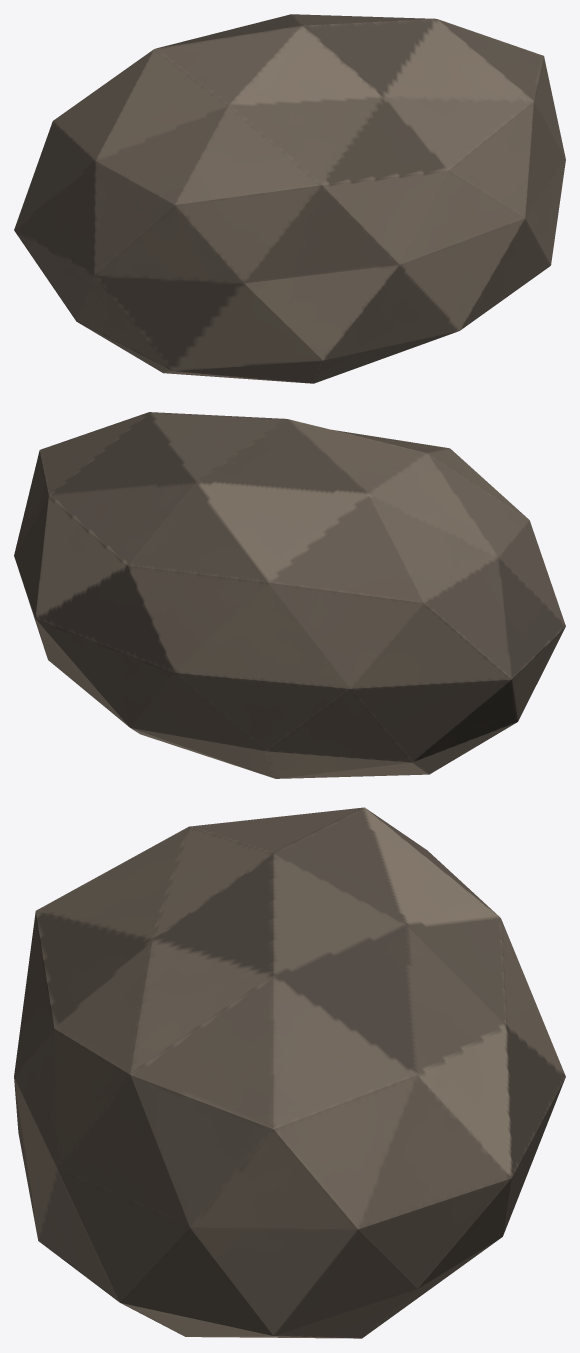
The model's file is kite.glb.
3 renders of one model, top to bottom at view 1: azimuth 30°, elevation 25°; view 2: azimuth 150°, elevation 25°; view 3: azimuth 270°, elevation 25°, orthographic. The views are drawn at different scales.
Parts seen in each view (by area): view 1: Kite; view 2: Kite; view 3: Kite.
Boxes of the visible parts, x1=… form: Kite: x1=14, y1=14, x2=565, y2=383; Kite: x1=14, y1=412, x2=565, y2=778; Kite: x1=14, y1=807, x2=565, y2=1338.
Size of the model in its own units: 1.94 by 1.26 by 1.4.
1 material, 1 textured.
